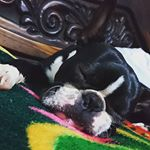puppy: (39, 2, 145, 133)
